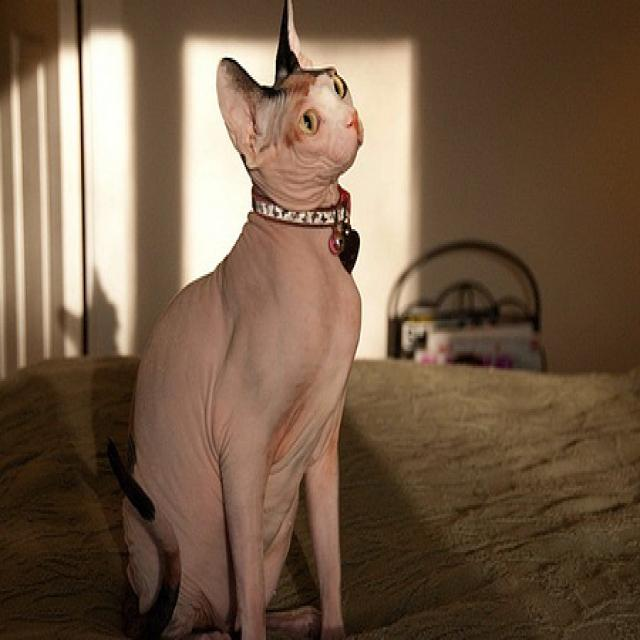Sphynx: (102, 0, 366, 640)
